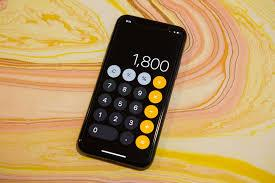Calculator: (84, 51, 173, 154)
